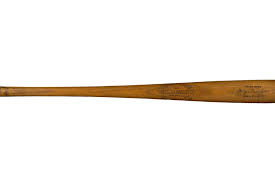bat: (1, 79, 275, 104)
